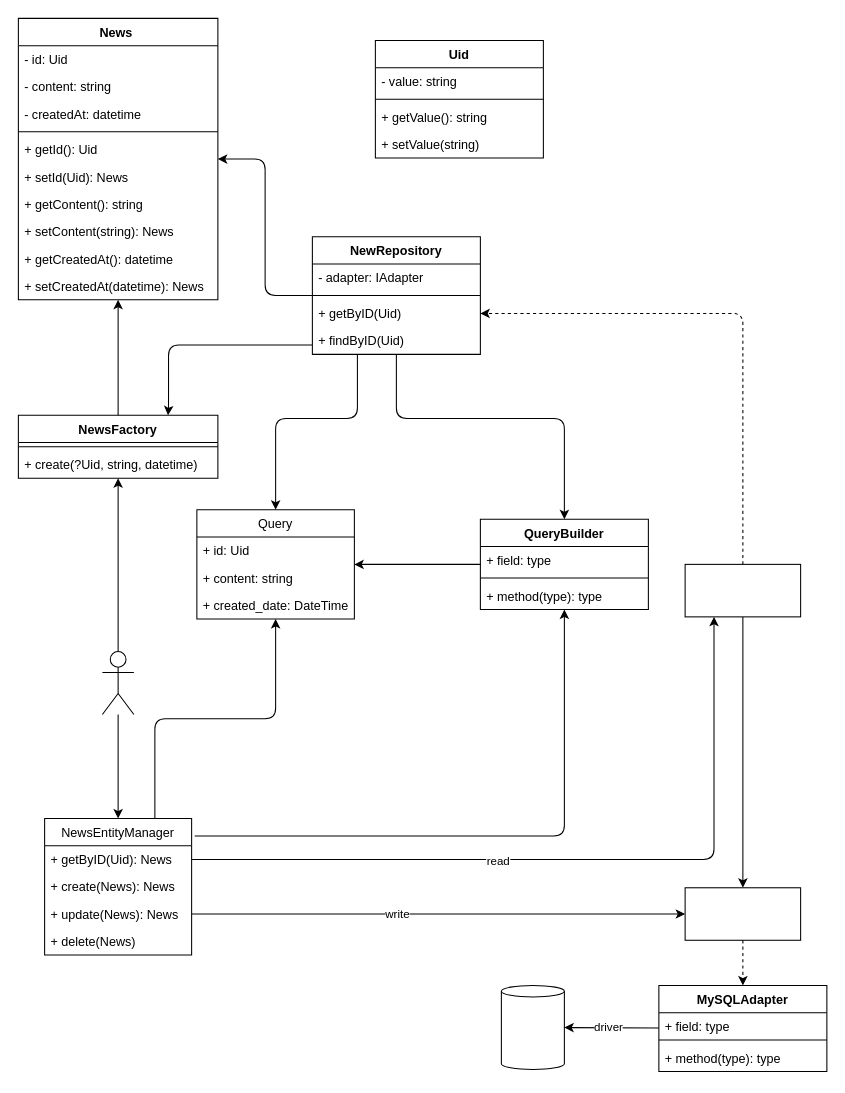
This 845x1093 diagram has some shape labels left out. The centre of each missing label's shape, as x and y in pixels:
Actor: (117,682)
MySQL: (532,1026)
«interface» IAdapter: (742,913)
«interface» IRepository: (742,590)
